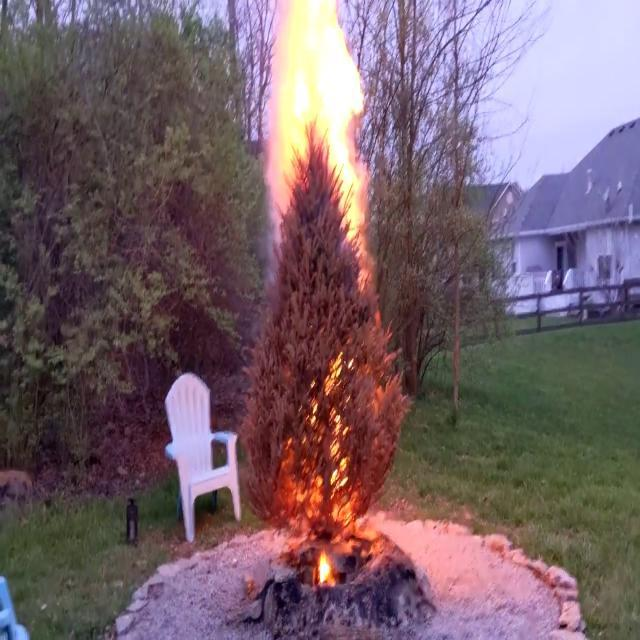Fire: (264, 0, 372, 244), (284, 356, 373, 588)
